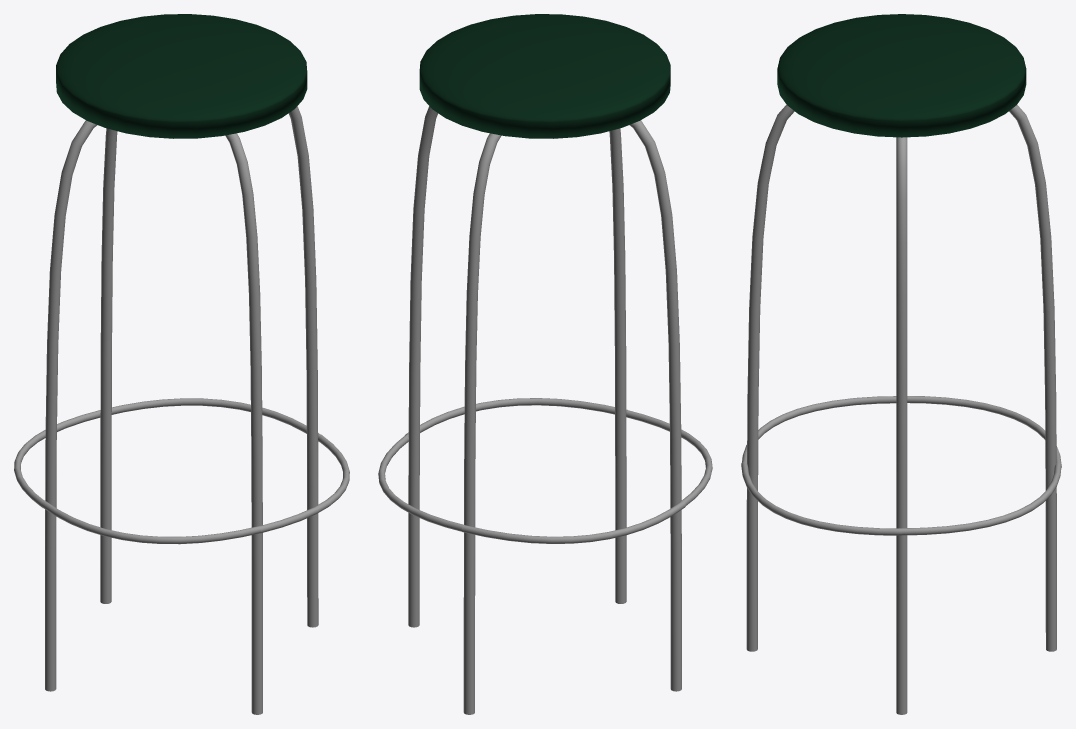
Rendered from Stol3.fbx.
The picture shows the model from 3 angles, left to right: view 1: azimuth 30°, elevation 25°; view 2: azimuth 150°, elevation 25°; view 3: azimuth 270°, elevation 25°; orthographic projection.
Parts seen in each view (by area): view 1: Cylinder, BezierCurve, BezierCurve.002, BezierCurve.003, BezierCurve.001, BezierCurve.004, BezierCurve.005, BezierCurve.007, BezierCurve.006; view 2: Cylinder, BezierCurve.001, BezierCurve.002, BezierCurve.003, BezierCurve, BezierCurve.006, BezierCurve.007, BezierCurve.005, BezierCurve.004; view 3: Cylinder, BezierCurve.003, BezierCurve, BezierCurve.001, BezierCurve.007, BezierCurve.005, BezierCurve.006, BezierCurve.004.
Boxes of the visible parts, <box> form: Cylinder: <box>56,14,307,138</box>; BezierCurve: <box>225,133,262,714</box>; BezierCurve.002: <box>45,120,97,691</box>; BezierCurve.003: <box>288,106,318,627</box>; BezierCurve.001: <box>100,128,117,603</box>; BezierCurve.004: <box>41,500,261,544</box>; BezierCurve.005: <box>111,398,320,441</box>; BezierCurve.007: <box>259,434,349,533</box>; BezierCurve.006: <box>14,410,100,507</box>; Cylinder: <box>419,14,670,138</box>; BezierCurve.001: <box>463,133,501,714</box>; BezierCurve.002: <box>629,120,681,691</box>; BezierCurve.003: <box>408,106,437,627</box>; BezierCurve: <box>609,128,626,603</box>; BezierCurve.006: <box>462,501,685,543</box>; BezierCurve.007: <box>405,398,627,435</box>; BezierCurve.005: <box>378,434,466,531</box>; BezierCurve.004: <box>626,410,712,505</box>; Cylinder: <box>777,14,1026,137</box>; BezierCurve.003: <box>896,137,907,714</box>; BezierCurve: <box>746,105,794,651</box>; BezierCurve.001: <box>1009,105,1056,651</box>; BezierCurve.007: <box>741,461,901,535</box>; BezierCurve.005: <box>899,462,1061,535</box>; BezierCurve.006: <box>907,396,1061,467</box>; BezierCurve.004: <box>742,396,896,462</box>.
Size of the model in its own units: 258 by 528 by 258.
